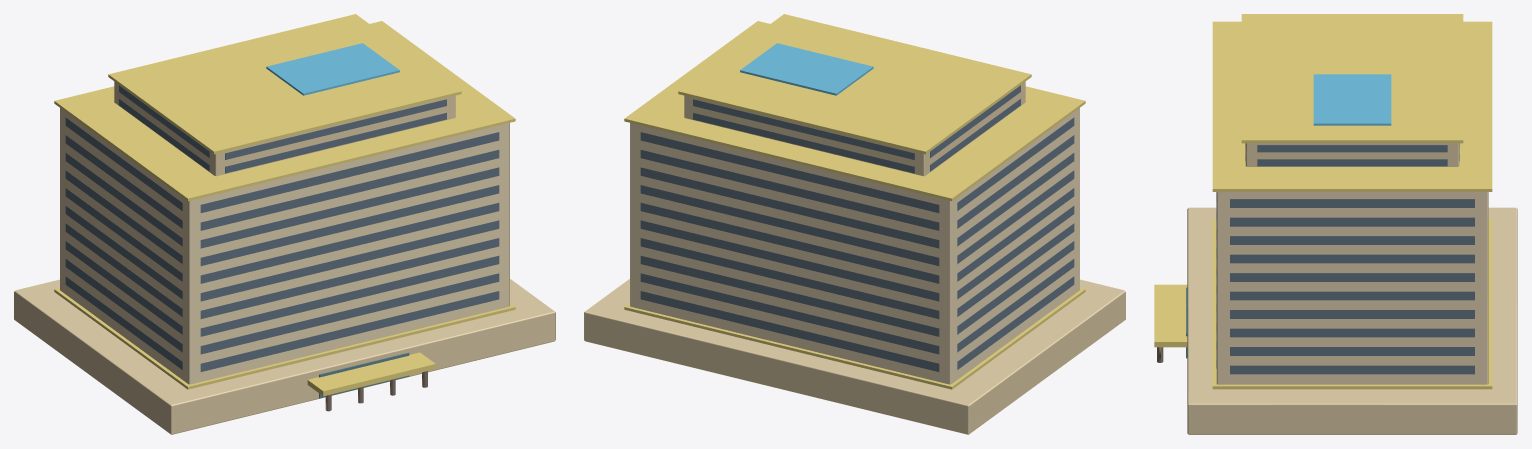
File: hotel.glb
3 views of the same model, side by side, from view 1: azimuth 30°, elevation 25°; view 2: azimuth 150°, elevation 25°; view 3: azimuth 270°, elevation 25° (orthographic). The views are drawn at different scales.
Parts seen in each view (by area): view 1: Tower, WindowBands, GoldCap, Podium, GoldTrim, CrownWindows, Crown, RoofPool, EntranceCanopy; view 2: Tower, WindowBands, Podium, GoldCap, GoldTrim, CrownWindows, Crown, RoofPool; view 3: Tower, GoldCap, Podium, WindowBands, GoldTrim, RoofPool, CrownWindows, Crown, EntranceCanopy.
Boxes of the visible parts, x1,y1,x2,y2 form: Tower: [60, 108, 509, 384]; WindowBands: [65, 117, 499, 371]; GoldCap: [108, 14, 461, 154]; Podium: [14, 279, 555, 434]; GoldTrim: [54, 21, 515, 389]; CrownWindows: [119, 85, 446, 173]; Crown: [114, 81, 455, 176]; RoofPool: [266, 43, 399, 95]; EntranceCanopy: [307, 352, 435, 396]; Tower: [630, 108, 1079, 384]; WindowBands: [640, 117, 1074, 371]; Podium: [584, 279, 1125, 434]; GoldCap: [678, 14, 1031, 154]; GoldTrim: [624, 21, 1085, 389]; CrownWindows: [693, 85, 1020, 173]; Crown: [684, 81, 1025, 176]; RoofPool: [740, 43, 873, 95]; Tower: [1216, 192, 1488, 384]; GoldCap: [1241, 14, 1463, 143]; Podium: [1187, 207, 1517, 434]; WindowBands: [1216, 192, 1474, 374]; GoldTrim: [1212, 21, 1492, 389]; RoofPool: [1313, 74, 1391, 125]; CrownWindows: [1245, 143, 1459, 166]; Crown: [1245, 143, 1459, 166]; EntranceCanopy: [1154, 284, 1187, 347].
Size of the model in its own units: 240 by 149 by 187.
